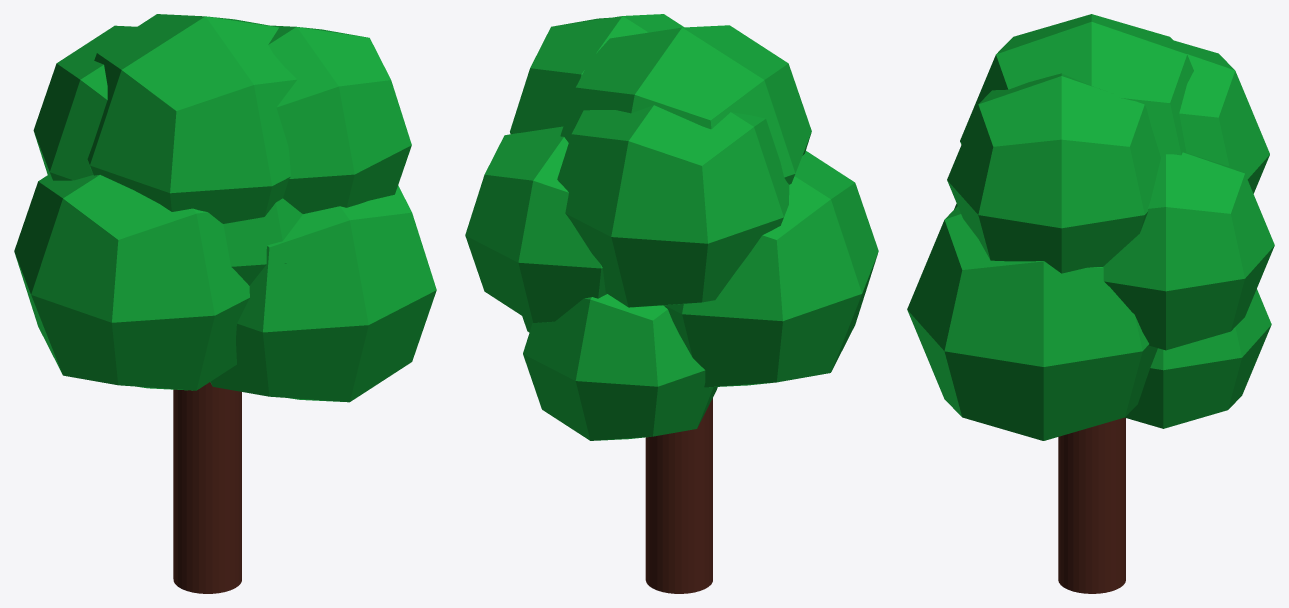
Rendered from tree.glb.
The picture shows the model from 3 angles, left to right: view 1: azimuth 30°, elevation 25°; view 2: azimuth 150°, elevation 25°; view 3: azimuth 270°, elevation 25°; orthographic projection. The views are drawn at different scales.
Visible parts, largest first — view 1: Cube, Cylinder; view 2: Cube, Cylinder; view 3: Cube, Cylinder.
Boxes of the visible parts, bbox=[...] form: Cube: bbox=[14, 14, 436, 402]; Cylinder: bbox=[173, 382, 241, 593]; Cube: bbox=[465, 14, 878, 440]; Cylinder: bbox=[645, 398, 712, 593]; Cube: bbox=[907, 14, 1274, 440]; Cylinder: bbox=[1058, 417, 1125, 593].
Bounding box in the file's own units: 3.15 × 4.61 × 2.76.
